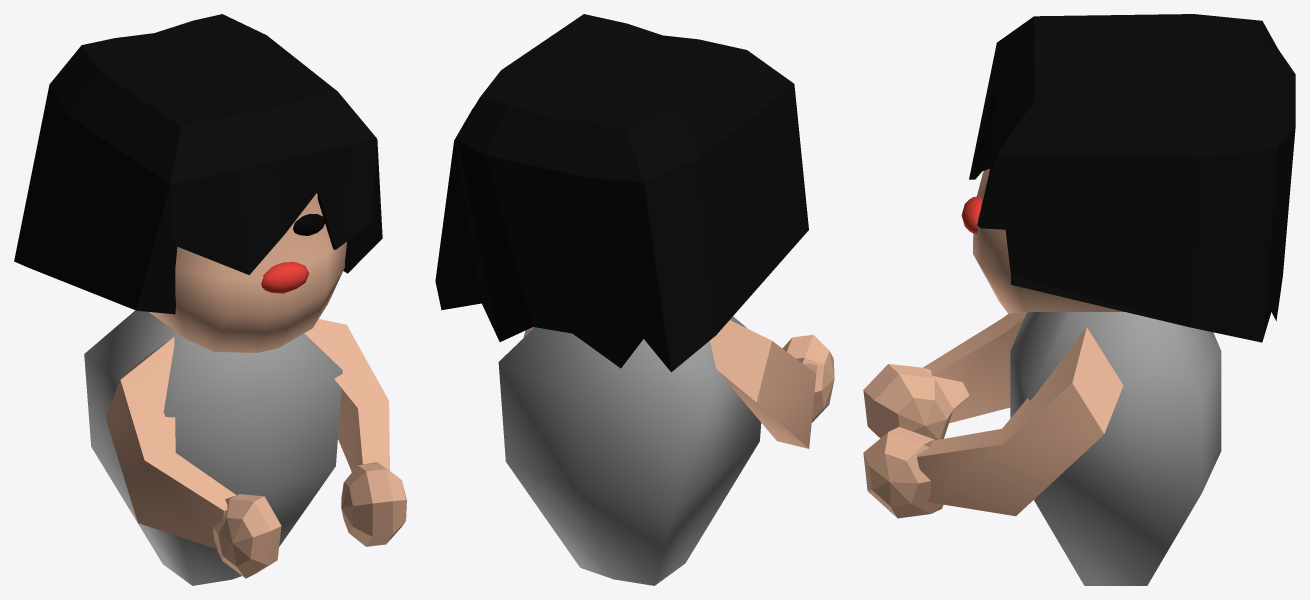
Rendered from playerMesh)01.fbx.
3 renders of one model, left to right at view 1: azimuth 30°, elevation 25°; view 2: azimuth 150°, elevation 25°; view 3: azimuth 270°, elevation 25°, orthographic. The views are drawn at different scales.
Visible parts, largest first — view 1: hair, body, player_arms, head, player_arms.001, nose, eye; view 2: hair, body, player_arms; view 3: hair, body, player_arms.001, player_arms, head.
Boxes of the visible parts, x1,y1,x2,y2 form: hair: (14, 14, 382, 314); body: (84, 310, 342, 585); player_arms: (105, 337, 281, 578); head: (149, 193, 346, 352); player_arms.001: (304, 319, 406, 546); nose: (261, 262, 309, 293); eye: (293, 214, 324, 235); hair: (435, 14, 808, 372); body: (498, 316, 761, 585); player_arms: (710, 320, 834, 448); hair: (969, 14, 1295, 342); body: (1010, 312, 1221, 585); player_arms.001: (863, 327, 1123, 518); player_arms: (863, 312, 1026, 439); head: (973, 168, 1124, 313).
Bounding box in the file's own units: 165 × 290 × 221.
